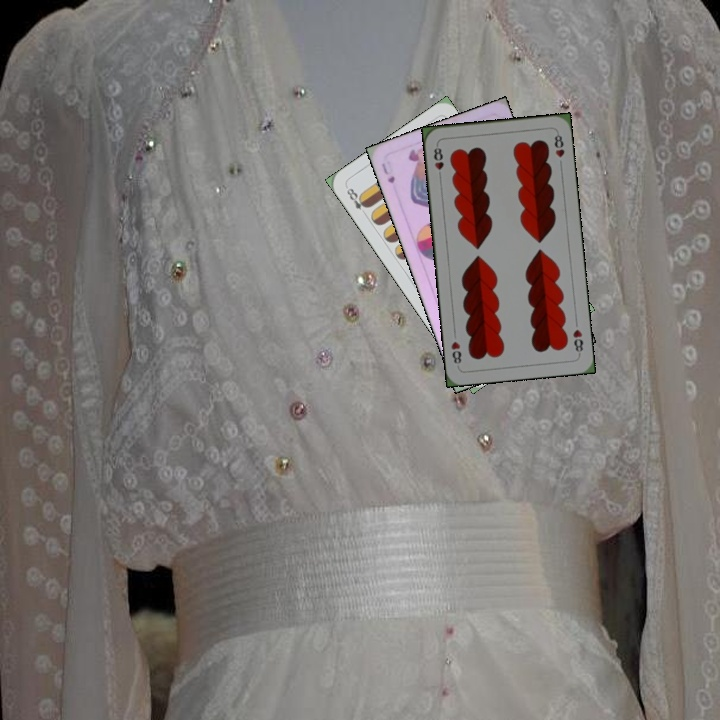E8: (342, 183, 371, 213)
H8: (430, 141, 446, 181), (569, 325, 585, 357)
SU: (377, 159, 397, 186)
